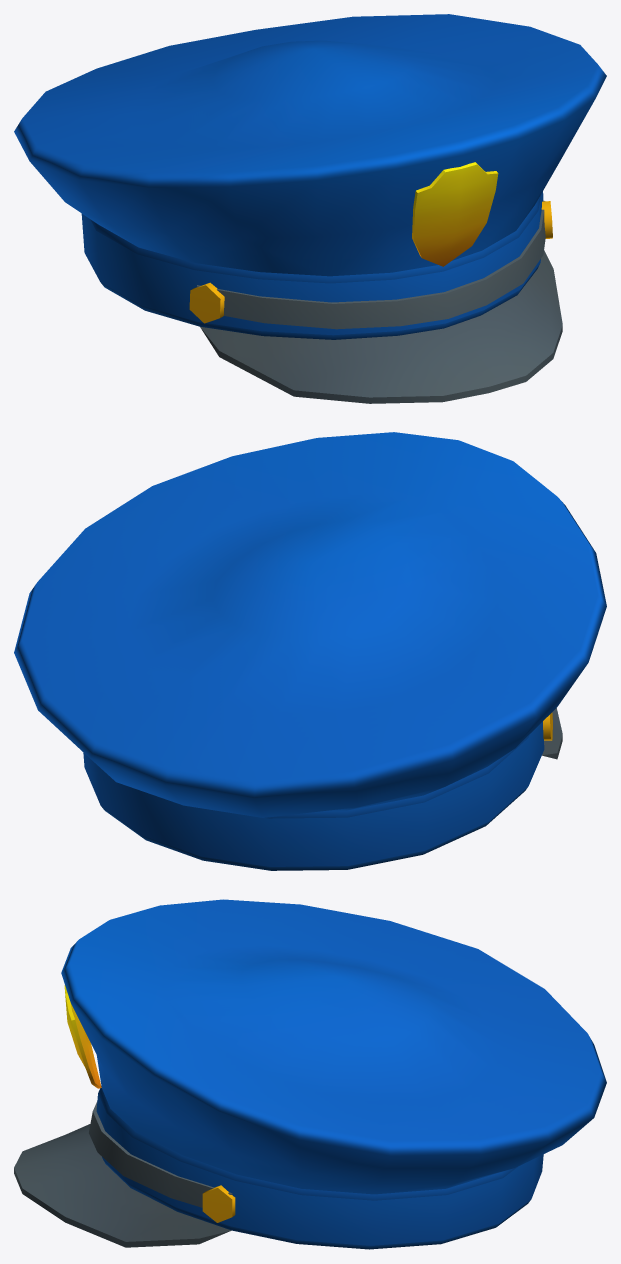
File: Hat_Police.fbx
3 views of the same model, one above another, from view 1: azimuth 30°, elevation 25°; view 2: azimuth 150°, elevation 25°; view 3: azimuth 270°, elevation 25° (orthographic). The views are drawn at different scales.
Parts seen in each view (by area): view 1: Hat_Police; view 2: Hat_Police; view 3: Hat_Police.
Part boxes in pixels (x1=…): Hat_Police: x1=14, y1=14, x2=606, y2=403; Hat_Police: x1=14, y1=432, x2=606, y2=870; Hat_Police: x1=14, y1=899, x2=606, y2=1249.
Size of the model in its own units: 156 by 71.72 by 172.
